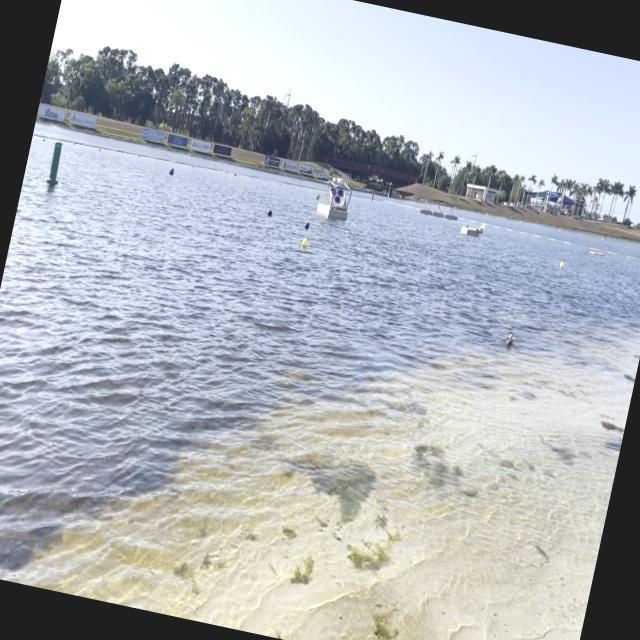buoy: (295, 235, 313, 252), (556, 256, 568, 274)
